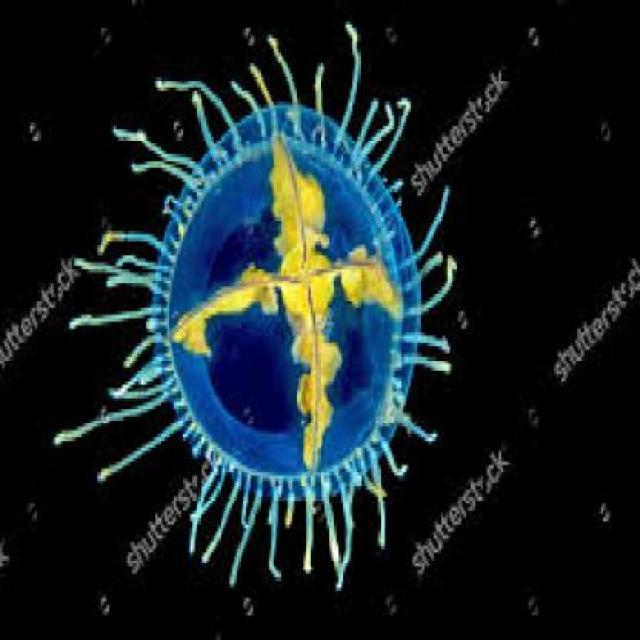Jellyfish: (46, 14, 457, 591)
